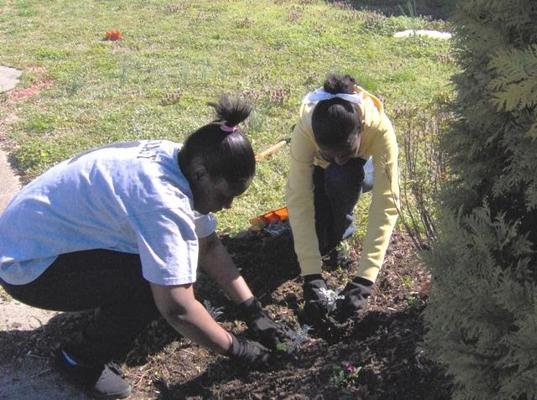person: (1, 98, 285, 400)
